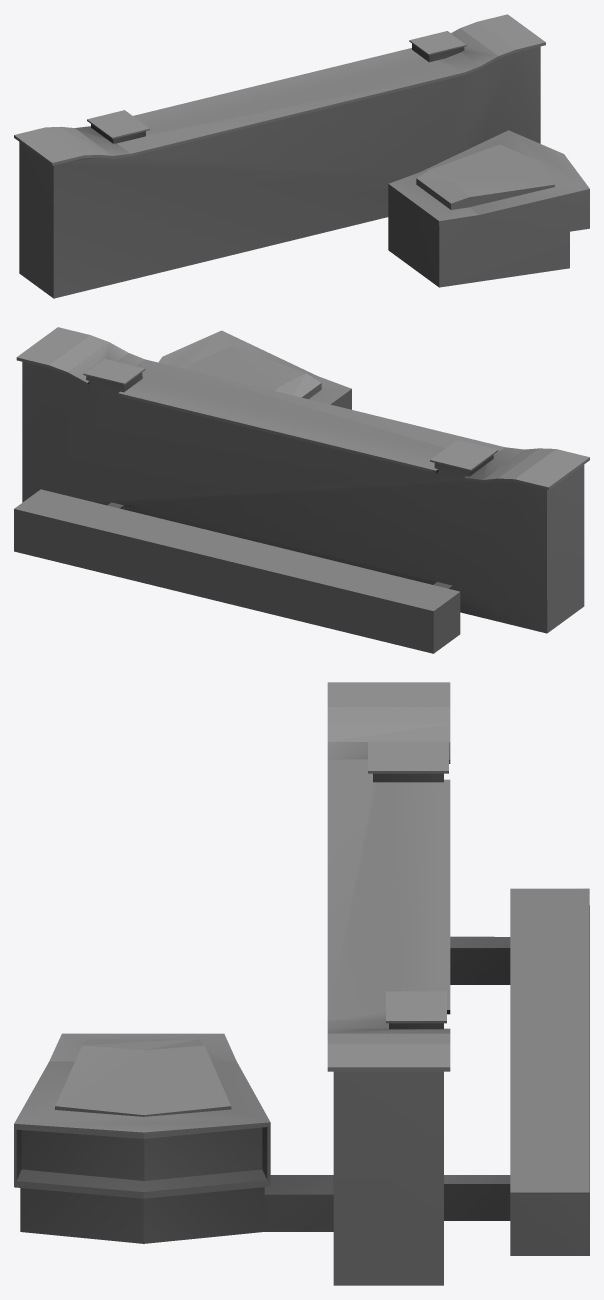
Rendered from dustHallpp.dae.
The picture shows the model from 3 angles, top to bottom: view 1: azimuth 30°, elevation 25°; view 2: azimuth 150°, elevation 25°; view 3: azimuth 270°, elevation 25°; orthographic projection. The views are drawn at different scales.
Visible parts, largest first — view 1: Mesh; view 2: Mesh; view 3: Mesh.
Part boxes in pixels (x1,y1,x2,y2): Mesh: (14,14,589,298); Mesh: (14,327,589,653); Mesh: (14,682,589,1285).
Bounding box in the file's own units: 59.48 × 37.56 × 15.9.
